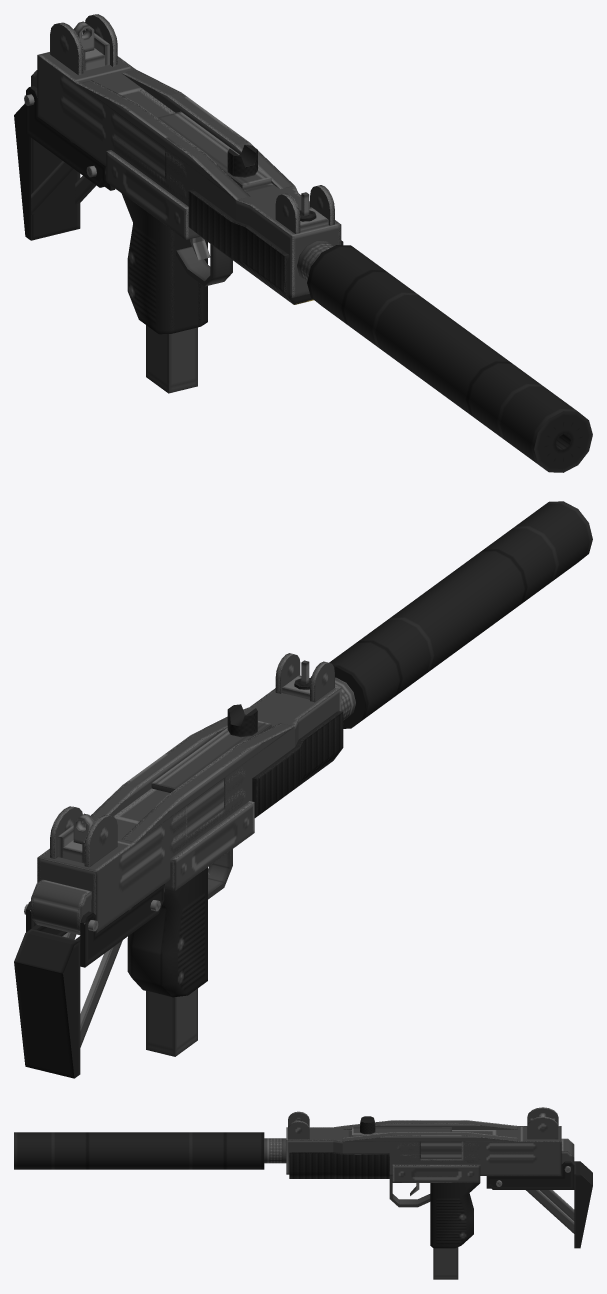
The model's file is uzi.obj.
3 views of the same model, one above another, from view 1: azimuth 30°, elevation 25°; view 2: azimuth 150°, elevation 25°; view 3: azimuth 270°, elevation 25° (orthographic). The views are drawn at different scales.
Visible parts, largest first — view 1: GunMirror, Silencer, Gun, StockBack, Magazine, Slide, StockFront; view 2: GunMirror, Gun, Silencer, StockBack, Magazine, Slide, StockFront; view 3: GunMirror, Silencer, Gun, StockBack, StockFront, Magazine, Slide.
Part boxes in pixels (x1,y1,x2,y2): GunMirror: [24, 14, 343, 334]; Silencer: [307, 245, 592, 472]; Gun: [24, 14, 343, 333]; StockBack: [14, 103, 115, 240]; Magazine: [146, 325, 197, 393]; Slide: [157, 111, 271, 189]; StockFront: [26, 86, 107, 187]; GunMirror: [24, 653, 355, 997]; Gun: [24, 654, 355, 996]; Silencer: [310, 501, 592, 728]; StockBack: [14, 924, 122, 1078]; Magazine: [146, 988, 197, 1056]; Slide: [151, 704, 271, 792]; StockFront: [26, 884, 164, 967]; GunMirror: [264, 1107, 574, 1248]; Silencer: [14, 1132, 264, 1169]; Gun: [264, 1107, 574, 1248]; StockBack: [486, 1161, 592, 1248]; StockFront: [486, 1161, 574, 1189]; Magazine: [433, 1247, 458, 1279]; Slide: [352, 1116, 451, 1136].
Bounding box in the file's own units: 1.75 × 7.19 × 23.12.
